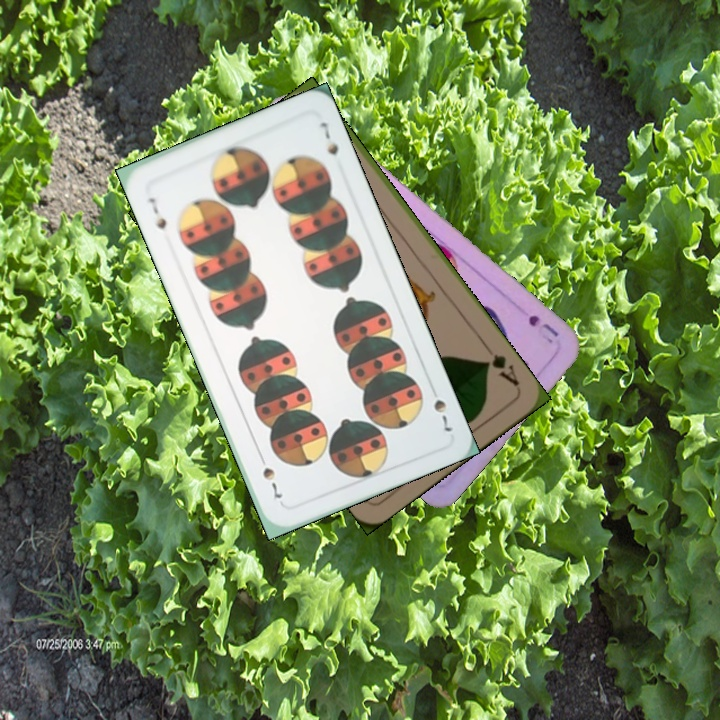GA: (480, 340, 523, 389)
S7: (426, 380, 456, 435), (144, 193, 169, 232)
SU: (524, 310, 561, 347)
